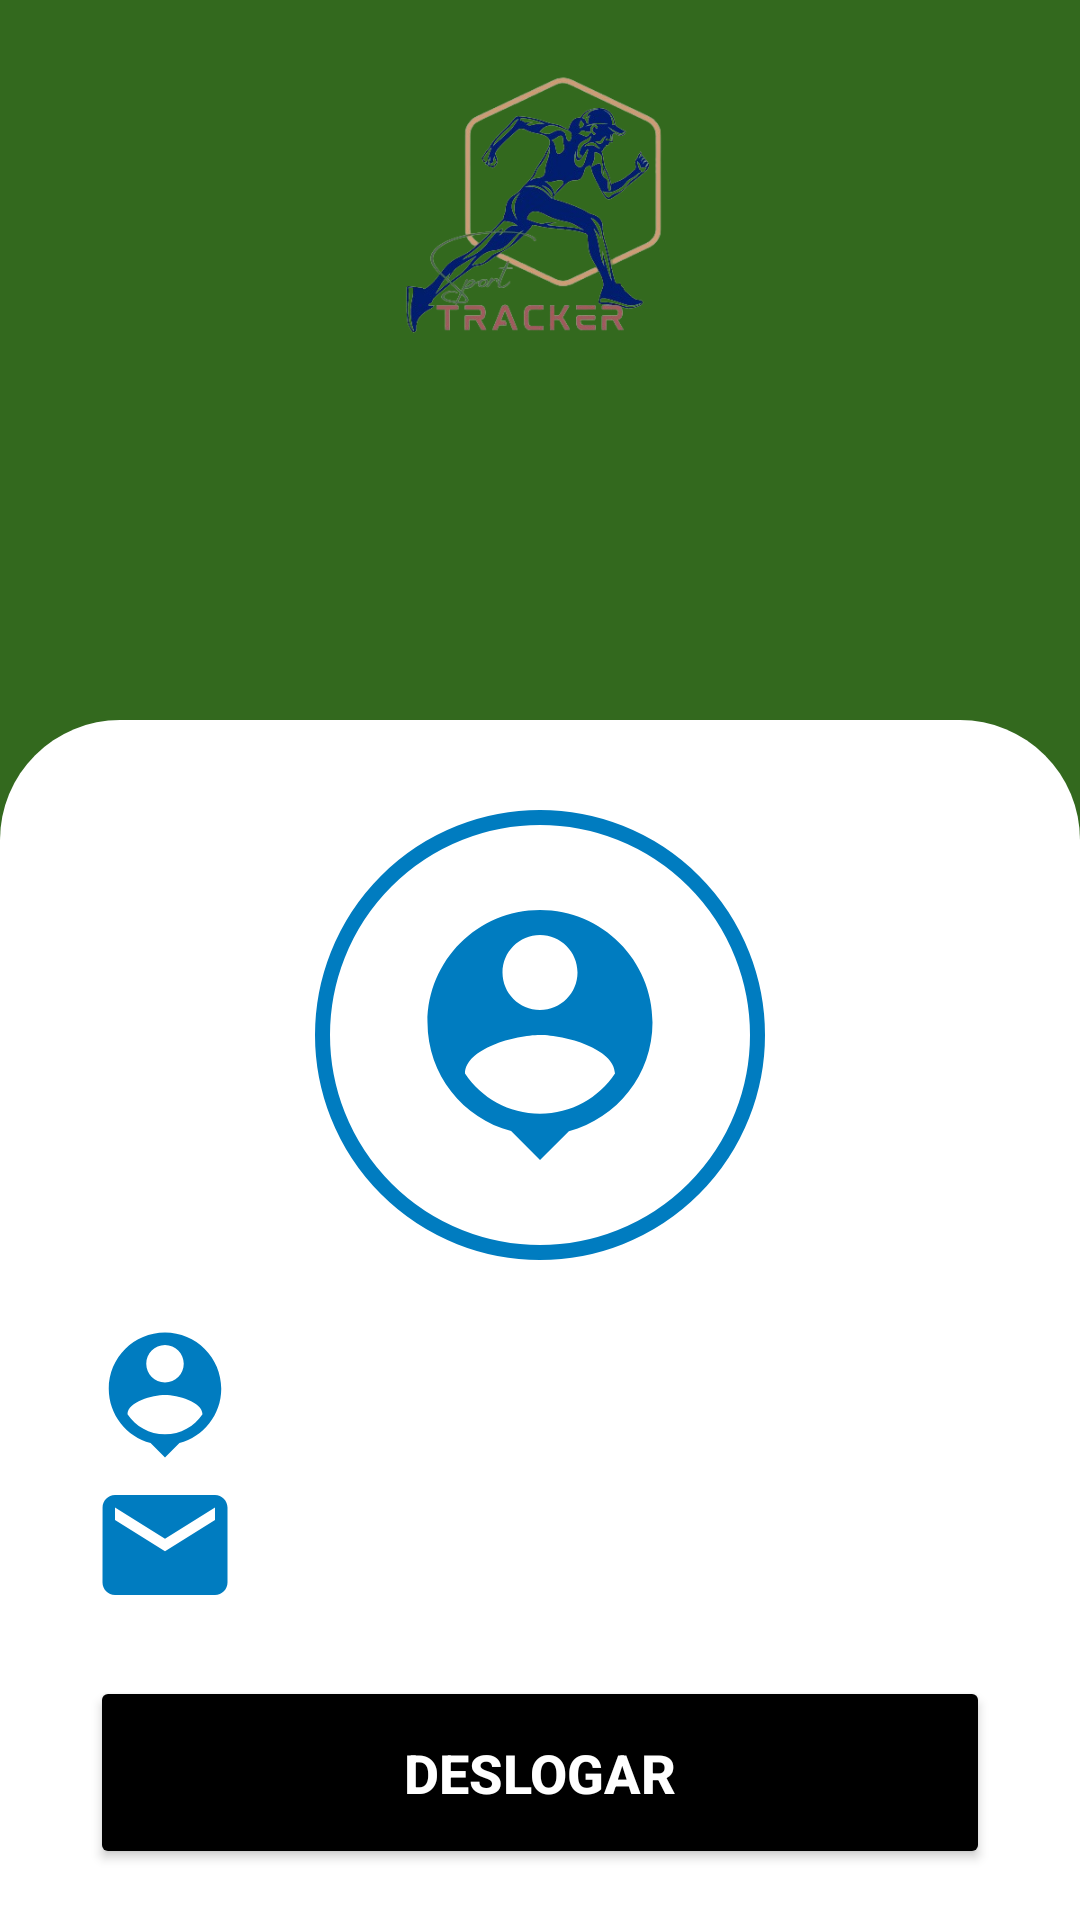

Where icons sit on this 1080 × 1920 app screen, as (x1, y1, x2, y2):
email: (102, 1495, 228, 1595)
